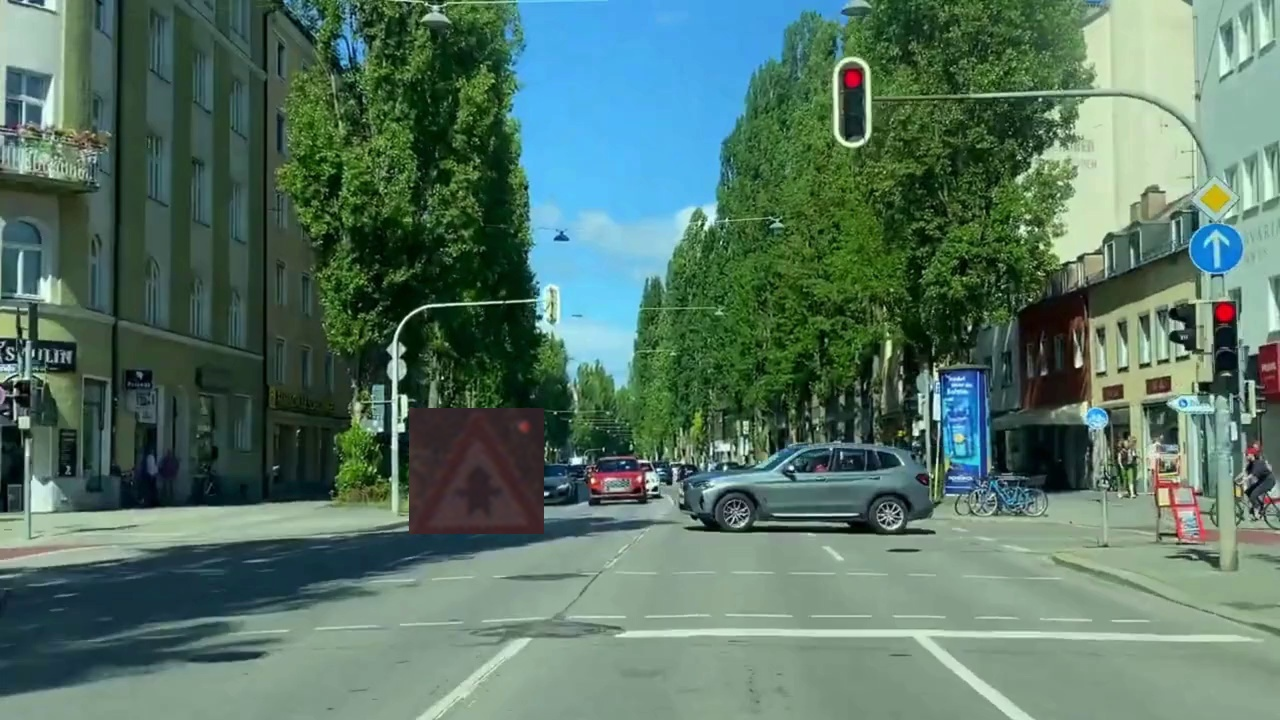Right-of-way: (409, 408, 544, 534)
